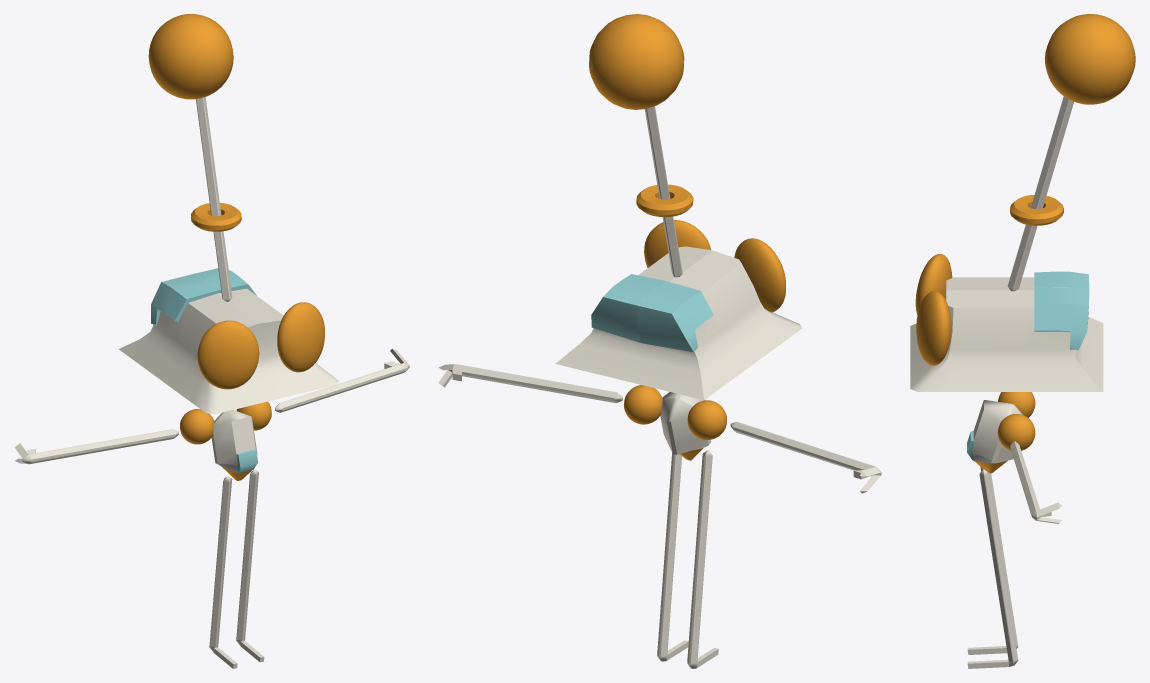
Rendered from RobFBX.fbx.
3 views of the same model, side by side, from view 1: azimuth 30°, elevation 25°; view 2: azimuth 150°, elevation 25°; view 3: azimuth 270°, elevation 25° (orthographic). The views are drawn at different scales.
Parts seen in each view (by area): view 1: RobotSkeleIKNurbs:polySurface16, RobotSkeleIKNurbs:polySurface8, RobotSkeleIKNurbs:polySurface13, RobotSkeleIKNurbs:polySurface14, RobotSkeleIKNurbs:polySurface11, RobotSkeleIKNurbs:polySurface12; view 2: RobotSkeleIKNurbs:polySurface16, RobotSkeleIKNurbs:polySurface8, RobotSkeleIKNurbs:polySurface13, RobotSkeleIKNurbs:polySurface14, RobotSkeleIKNurbs:polySurface12, RobotSkeleIKNurbs:polySurface11; view 3: RobotSkeleIKNurbs:polySurface16, RobotSkeleIKNurbs:polySurface8, RobotSkeleIKNurbs:polySurface14, RobotSkeleIKNurbs:polySurface12, RobotSkeleIKNurbs:polySurface13.
Boxes of the visible parts, <box> form: RobotSkeleIKNurbs:polySurface16: <box>119,14,338,414</box>; RobotSkeleIKNurbs:polySurface8: <box>180,401,271,480</box>; RobotSkeleIKNurbs:polySurface13: <box>209,476,237,668</box>; RobotSkeleIKNurbs:polySurface14: <box>236,469,264,662</box>; RobotSkeleIKNurbs:polySurface11: <box>14,429,178,464</box>; RobotSkeleIKNurbs:polySurface12: <box>275,348,409,412</box>; RobotSkeleIKNurbs:polySurface16: <box>555,14,802,399</box>; RobotSkeleIKNurbs:polySurface8: <box>624,385,726,460</box>; RobotSkeleIKNurbs:polySurface13: <box>687,450,718,668</box>; RobotSkeleIKNurbs:polySurface14: <box>657,452,688,661</box>; RobotSkeleIKNurbs:polySurface12: <box>438,364,622,403</box>; RobotSkeleIKNurbs:polySurface11: <box>730,421,881,493</box>; RobotSkeleIKNurbs:polySurface16: <box>910,14,1135,391</box>; RobotSkeleIKNurbs:polySurface8: <box>967,392,1035,473</box>; RobotSkeleIKNurbs:polySurface14: <box>967,469,1018,668</box>; RobotSkeleIKNurbs:polySurface12: <box>1010,441,1062,523</box>; RobotSkeleIKNurbs:polySurface13: <box>967,467,1018,654</box>.
Size of the model in its own units: 10.32 by 15.45 by 4.91.
